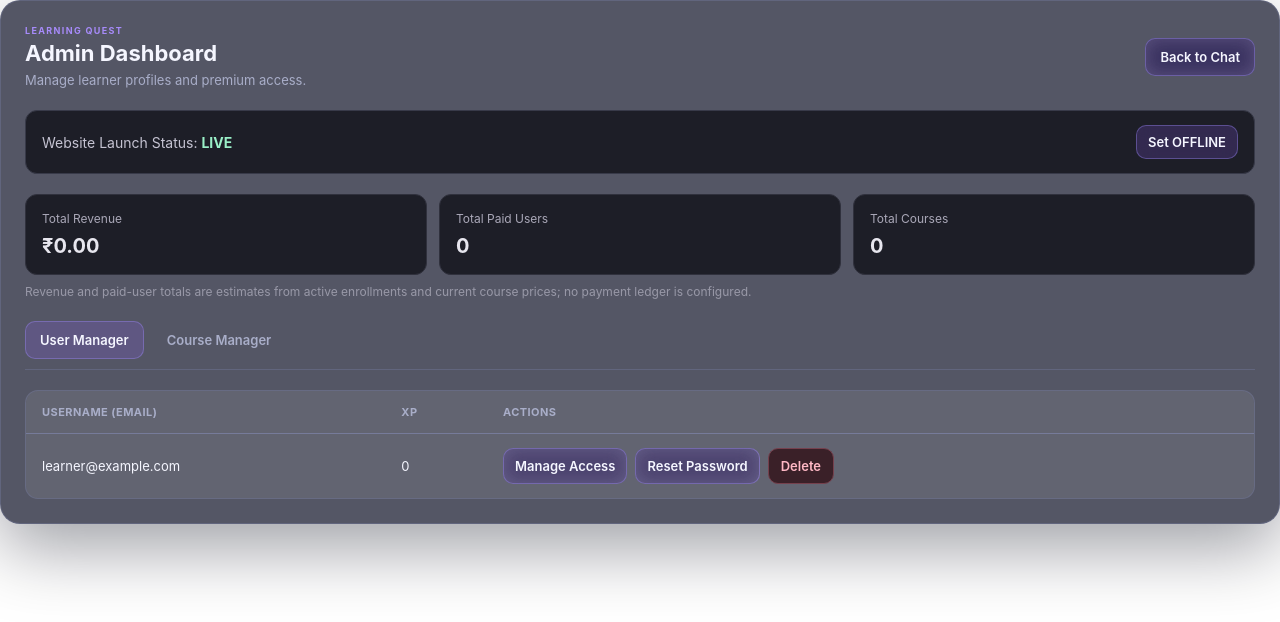
Test: sends a password reset email to the selected user
Click the button "Reset Password": (698, 466) top-left (635, 448), bottom-right (760, 484)
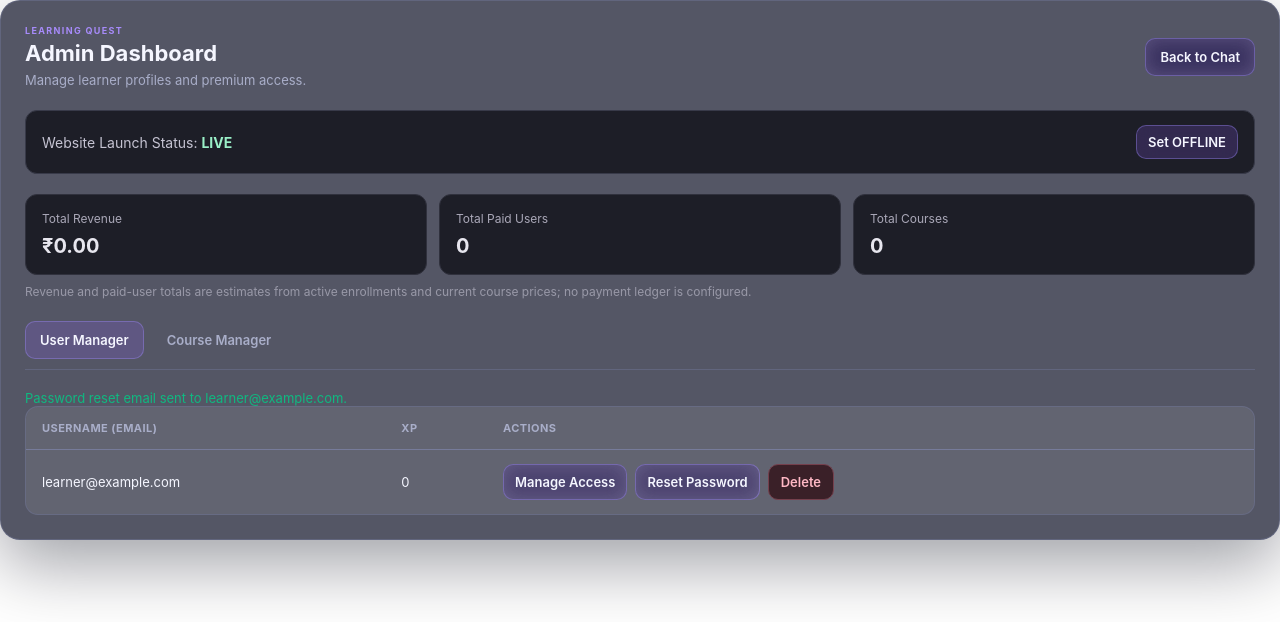
Expected: the message reads "Password reset email sent to learner@example.com.", top-left (25, 390), bottom-right (347, 406)
